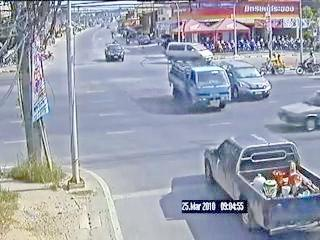Car: (203, 129, 320, 232), (168, 58, 230, 109), (222, 61, 272, 101), (279, 87, 320, 132), (168, 42, 212, 62), (103, 43, 125, 62)
Motor: (297, 54, 320, 80), (260, 55, 283, 76)
Not Accident: (168, 57, 270, 108)
